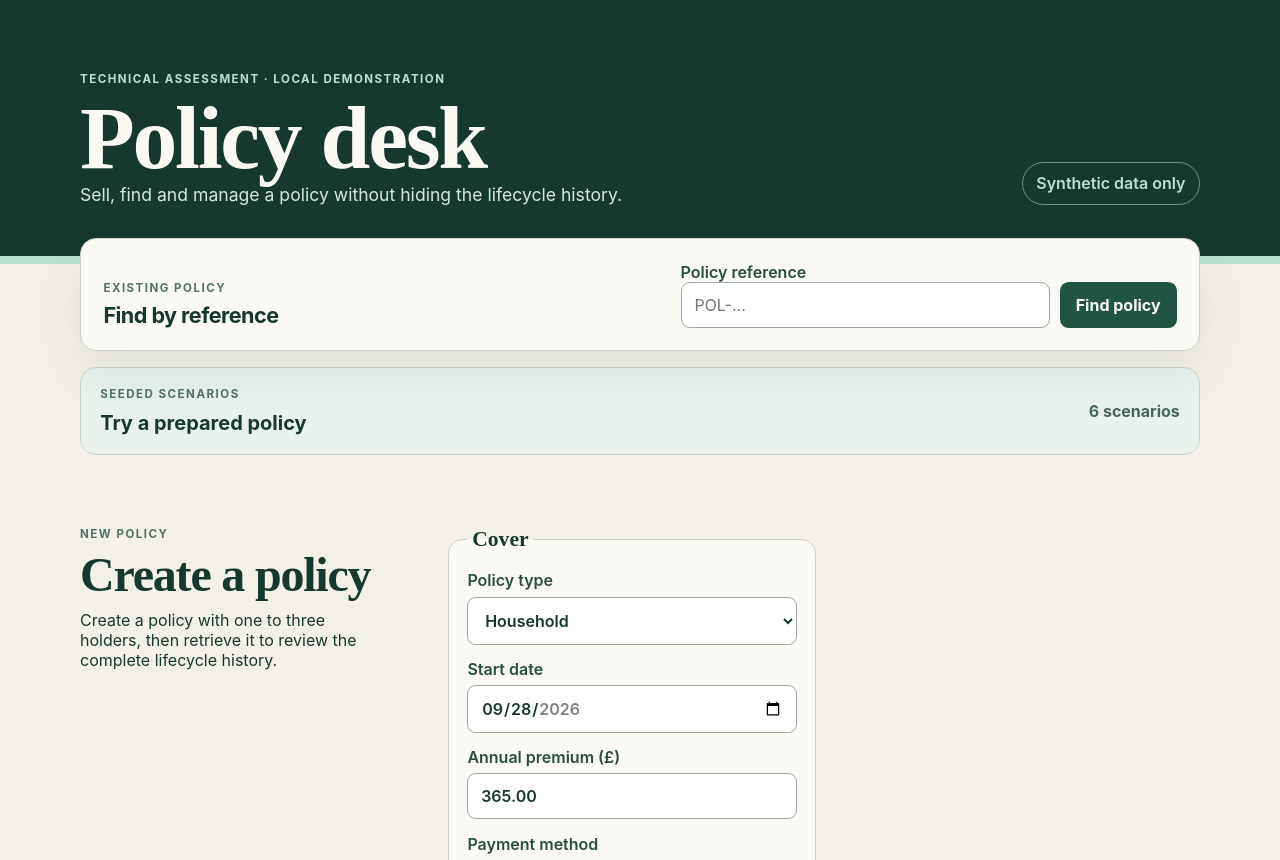
it: policy desk › preserves a business conflict when refresh fails and recovers with GET only
Step 1. Type "POL-DEMO123" into the field labelled "Policy reference" → (865, 305), box [681, 282, 1050, 328]
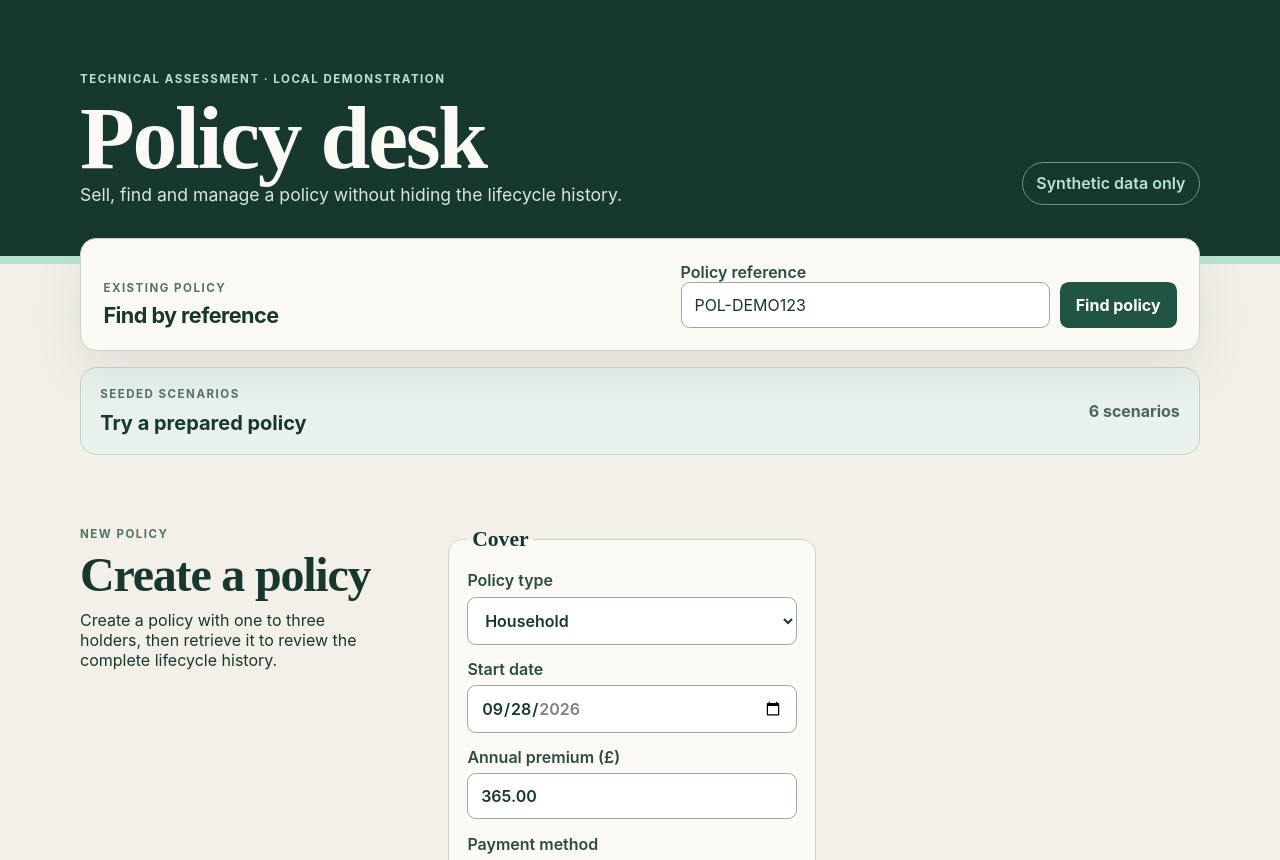
Step 2. Submit the form labelled "Policy reference", box [681, 262, 1177, 328]
(page scrolled)
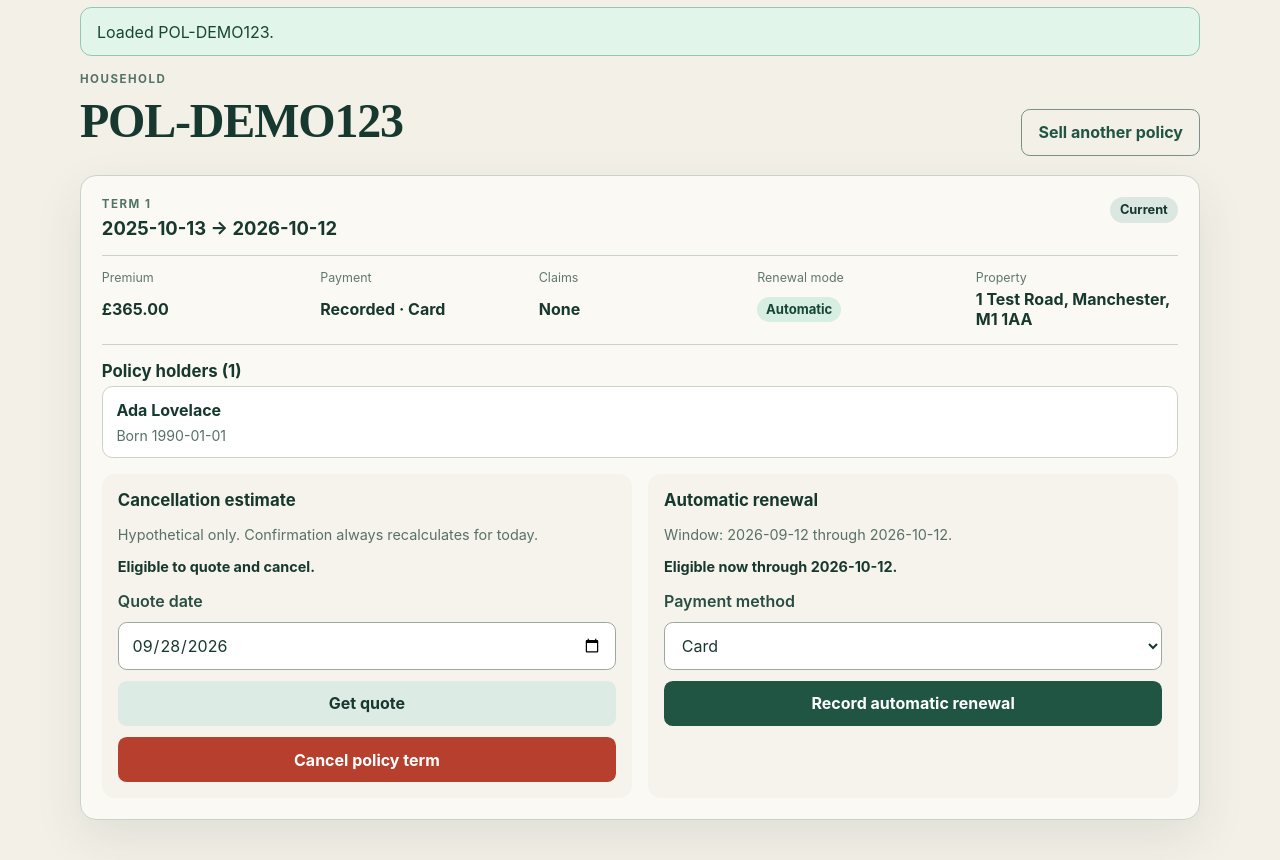
Expected: the heading "POL-DEMO123" is shown, [80, 93, 403, 148]
Step 3. Click the button "Record automatic renewal" → (913, 703), box [664, 681, 1162, 726]
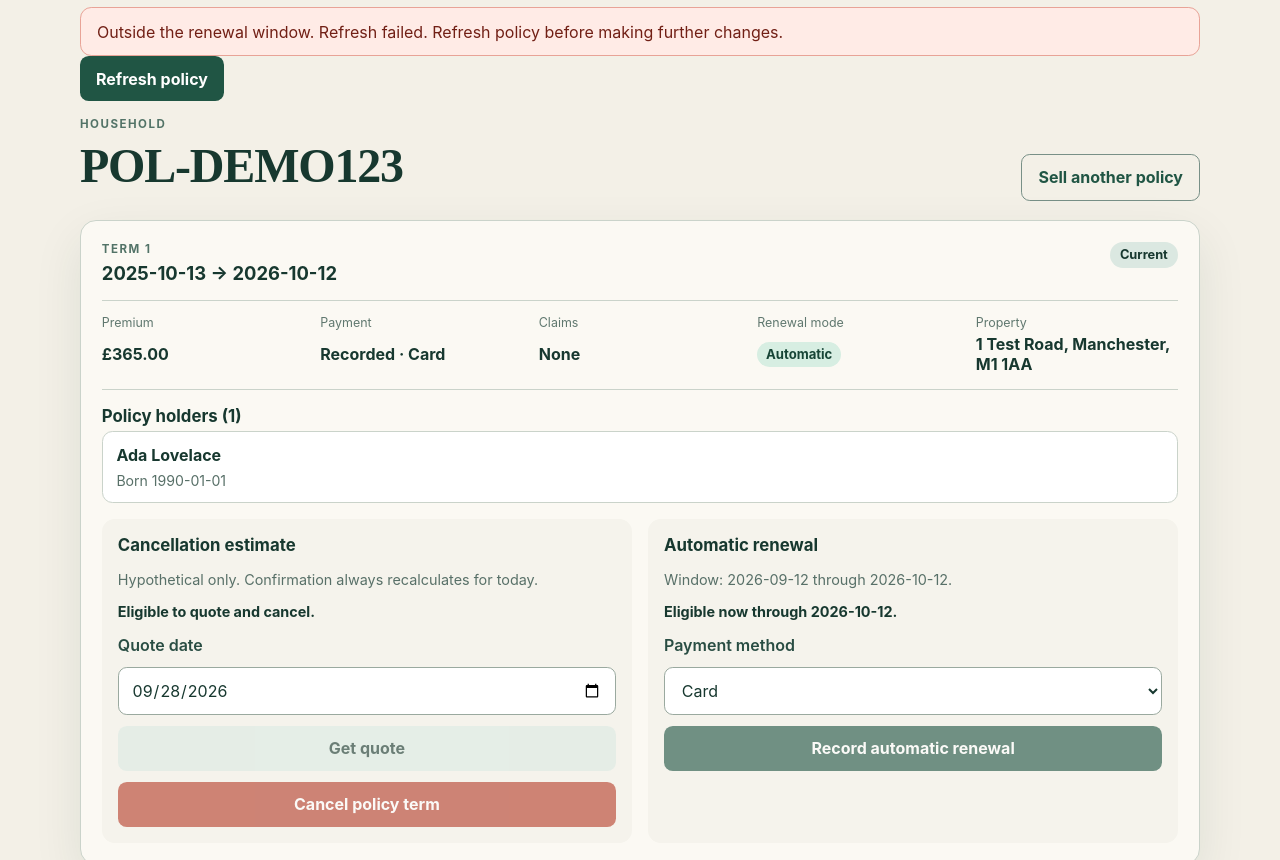
Expected: the message shows "Refresh failed", [97, 22, 783, 42]
Expected: the message shows "Outside the renewal window.", [97, 22, 783, 42]
Expected: the button "Record automatic renewal" is disabled, [664, 726, 1162, 771]
Step 4. Click the button "Refresh policy" → (152, 79), box [80, 56, 224, 101]
(page scrolled)
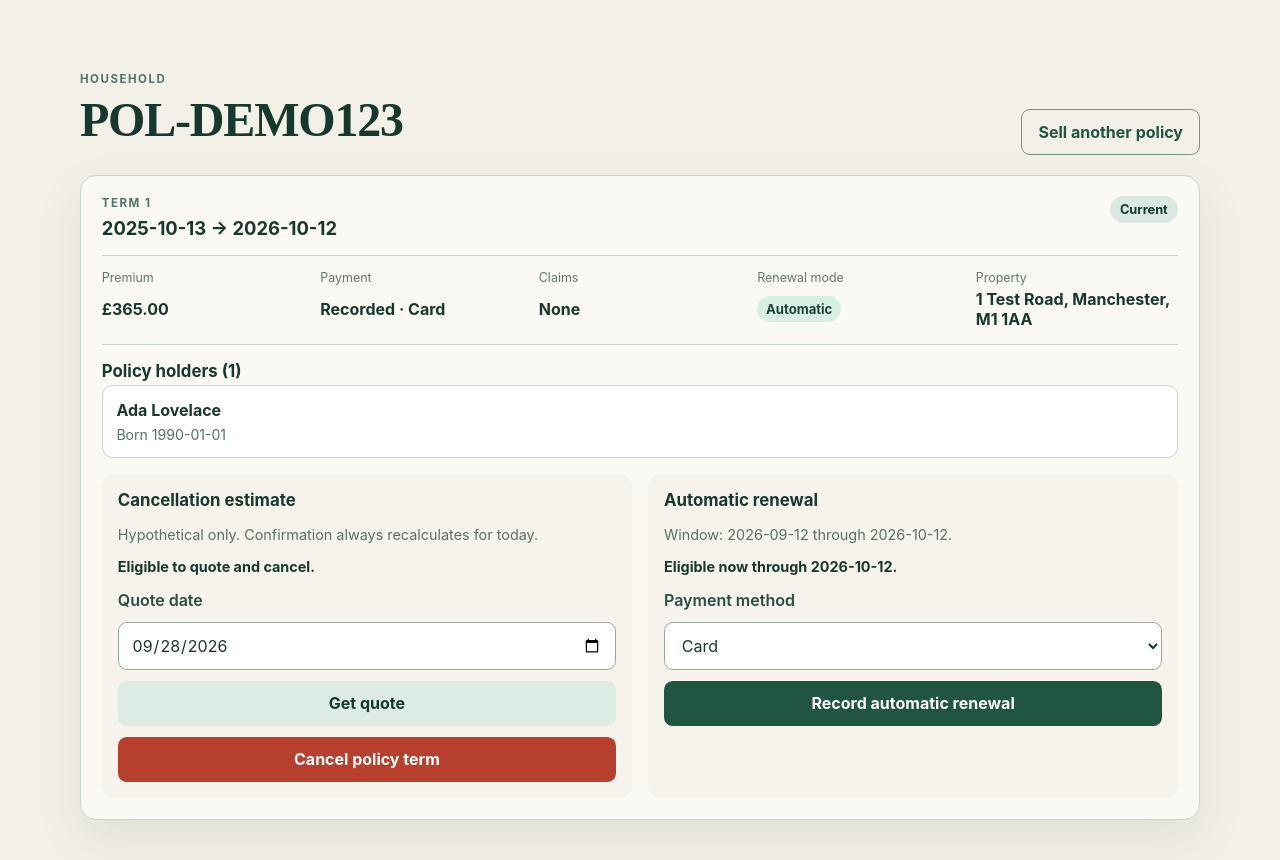
Expected: the button "Record automatic renewal" is enabled, [664, 681, 1162, 726]
